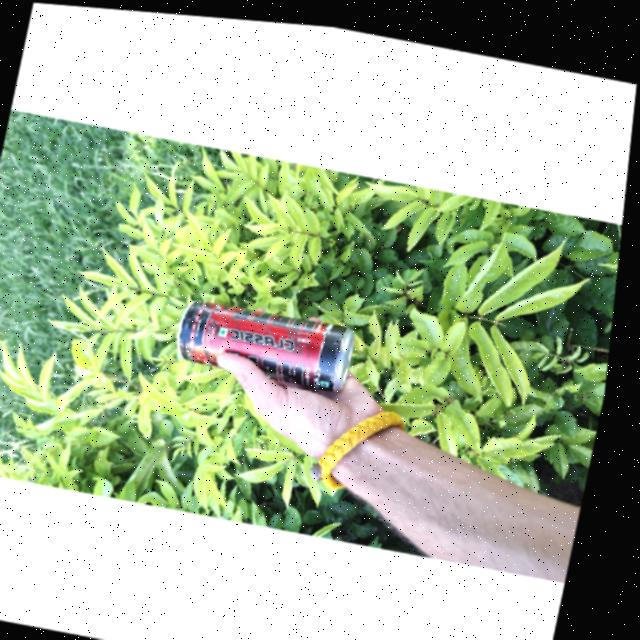Hell Classic: (175, 285, 371, 392)
